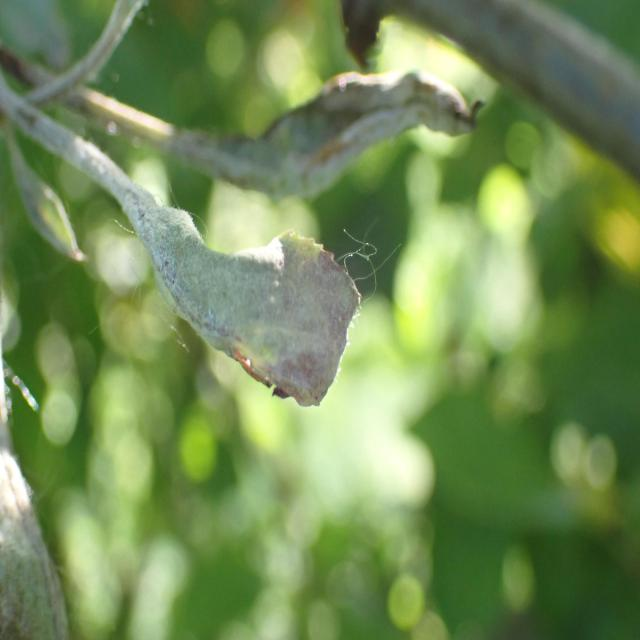Powdery_mildew: (107, 172, 376, 434), (163, 42, 499, 207)
